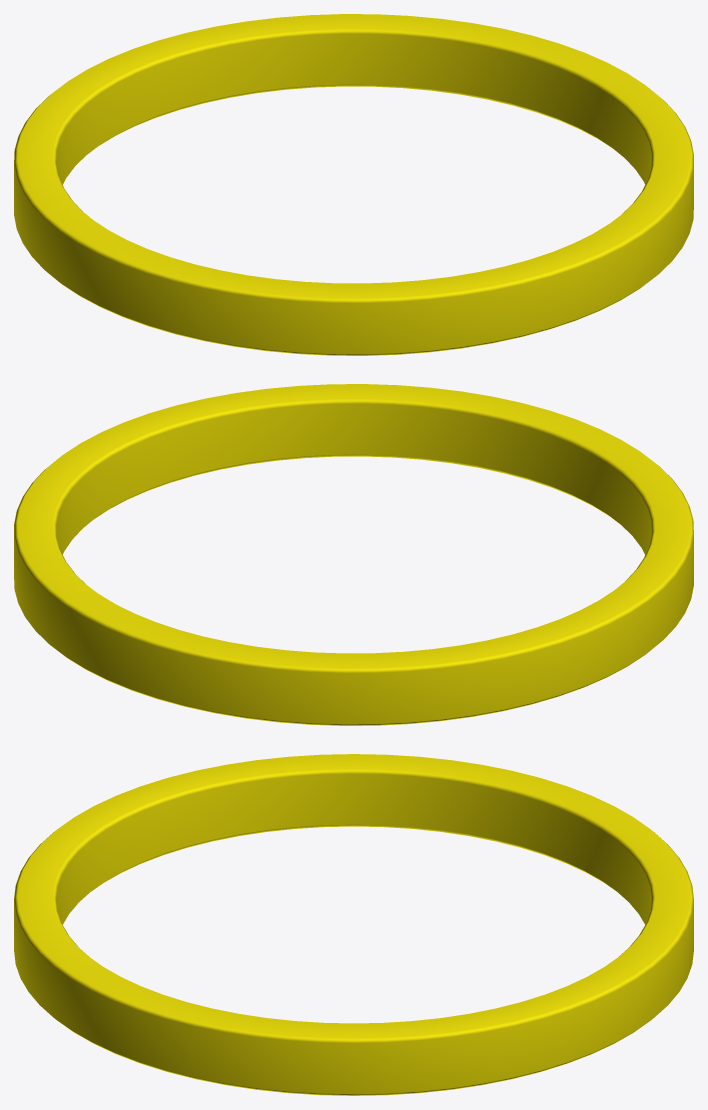
The picture shows the model from 3 angles, top to bottom: view 1: azimuth 30°, elevation 25°; view 2: azimuth 150°, elevation 25°; view 3: azimuth 270°, elevation 25°; orthographic projection.
Visible parts, largest first — view 1: seal_body; view 2: seal_body; view 3: seal_body.
Part boxes in pixels (bbox=[...]): seal_body: bbox=[14, 14, 693, 355]; seal_body: bbox=[14, 384, 693, 725]; seal_body: bbox=[14, 754, 693, 1095].
Size of the model in its own units: 0.1524 by 0.0143 by 0.1524.
